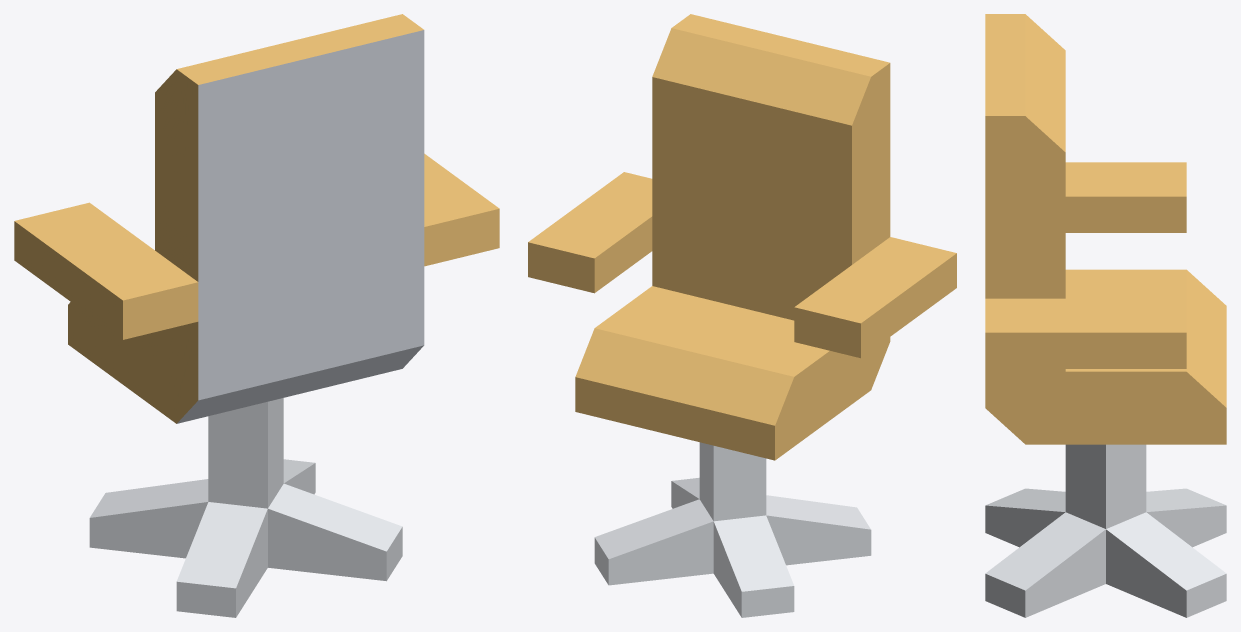
The model's file is desk_chairArms.gltf.
The picture shows the model from 3 angles, left to right: view 1: azimuth 30°, elevation 25°; view 2: azimuth 150°, elevation 25°; view 3: azimuth 270°, elevation 25°; orthographic projection. The views are drawn at different scales.
Parts seen in each view (by area): view 1: desk_chairArms; view 2: desk_chairArms; view 3: desk_chairArms.
Boxes of the visible parts, left/top/right/bottom form: desk_chairArms: left=14, top=14, right=499, bottom=617; desk_chairArms: left=528, top=14, right=956, bottom=617; desk_chairArms: left=985, top=14, right=1226, bottom=617.
Bounding box in the file's own units: 0.25 × 0.3438 × 0.15.
